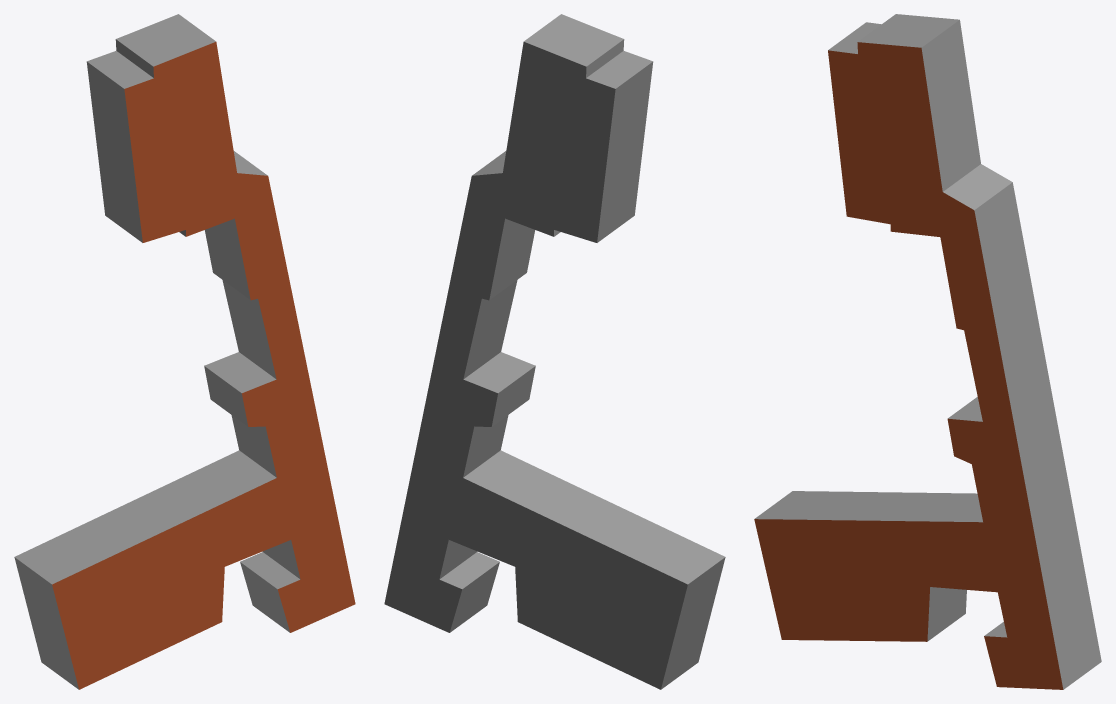
The model's file is construction_2722_assumed_A_Casa_h6m.obj.
3 renders of one model, left to right at view 1: azimuth 30°, elevation 25°; view 2: azimuth 150°, elevation 25°; view 3: azimuth 330°, elevation 25°, orthographic.
Visible parts, largest first — view 1: construction_2722_assumed_A_Casa; view 2: construction_2722_assumed_A_Casa; view 3: construction_2722_assumed_A_Casa.
Part boxes in pixels (x1,y1,x2,y2): construction_2722_assumed_A_Casa: (14,14,355,689); construction_2722_assumed_A_Casa: (384,14,725,689); construction_2722_assumed_A_Casa: (754,14,1101,689).
Bounding box in the file's own units: 27.9 × 53.99 × 6.
